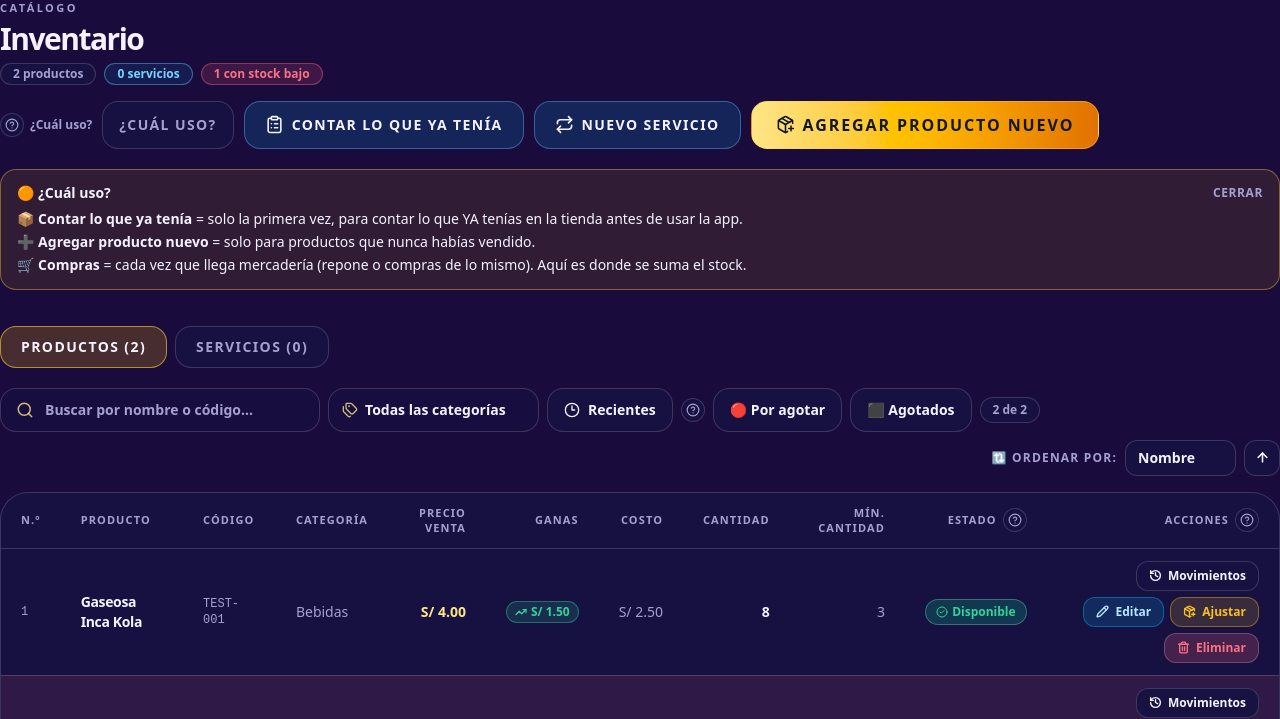
Scenario: InventoryPage › al editar un producto no se puede cambiar el stock
Expected: the text "Gaseosa Inca Kola" is shown, [61,548,183,675]
Step 1. Click the button "Editar" → click(1124, 612), box [1083,597,1164,627]
(page scrolled)
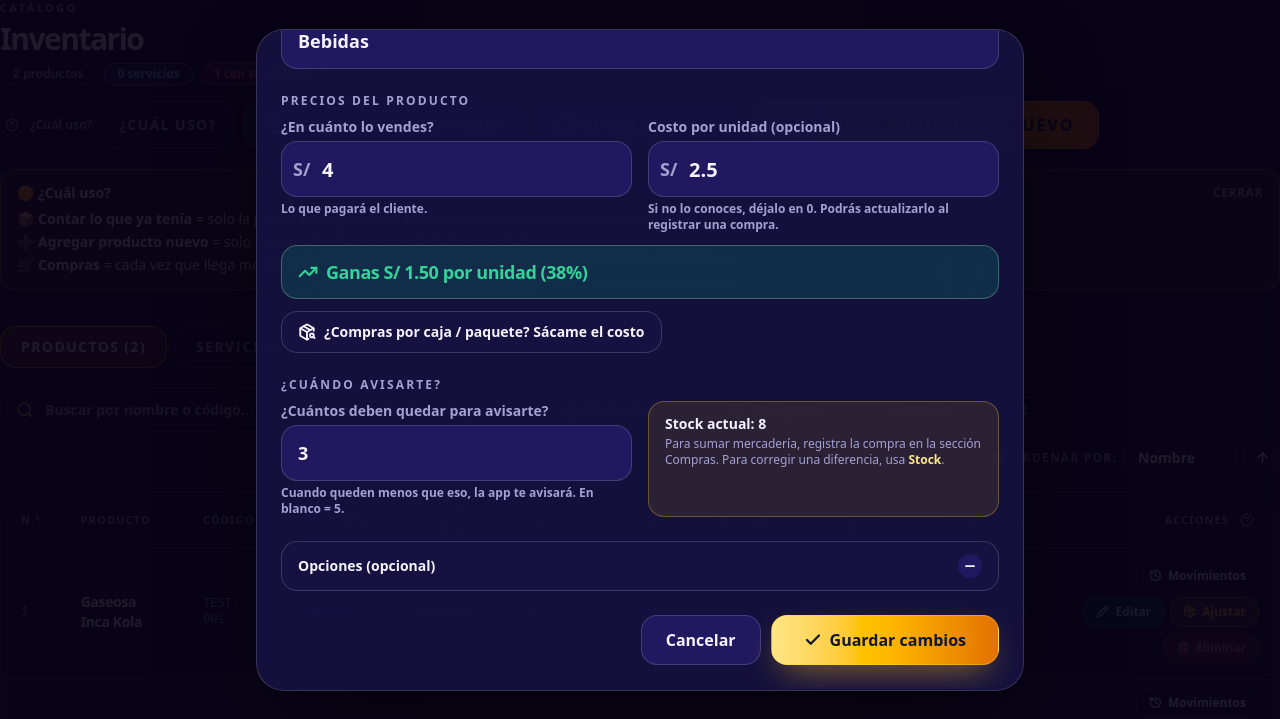
Expected: the button "Guardar cambios" is shown, [771,615,999,665]
